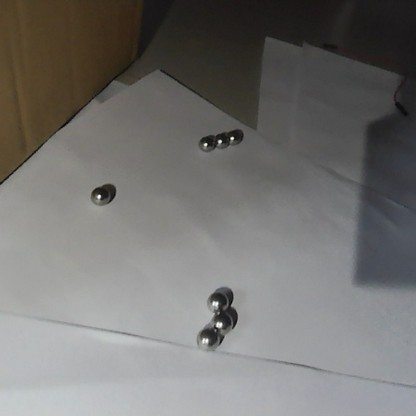ironball: (196, 328, 224, 353), (88, 184, 113, 208), (212, 309, 232, 334), (206, 291, 226, 311), (195, 133, 212, 153), (212, 130, 226, 150), (227, 128, 242, 146)
